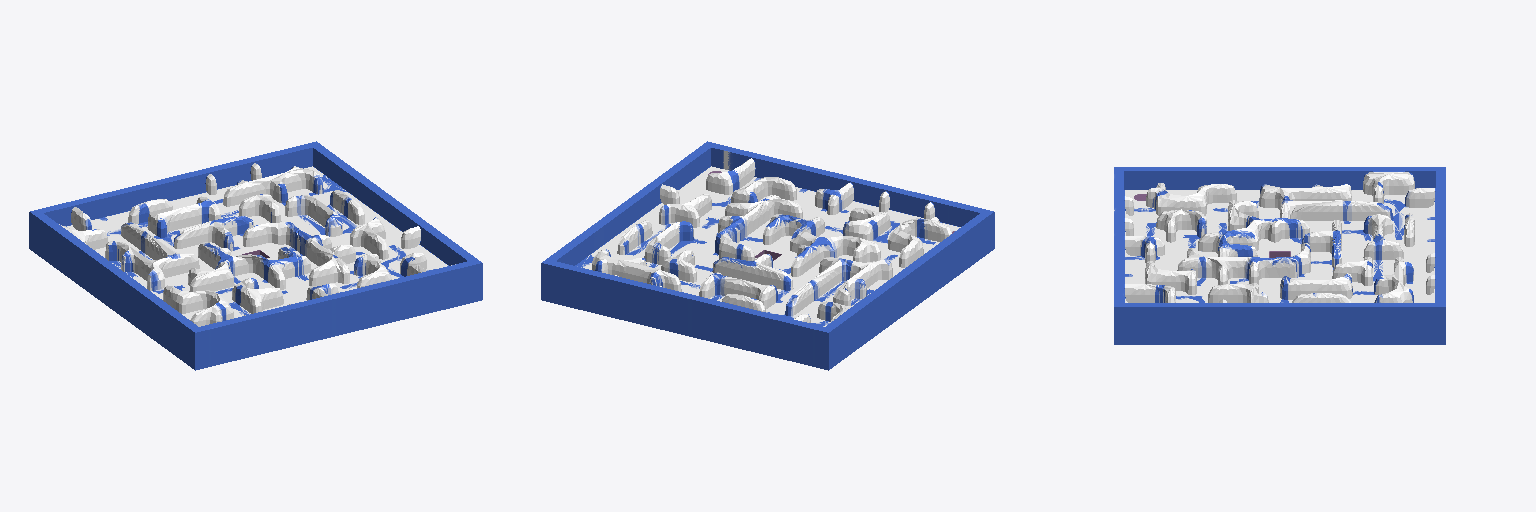
3 renders of one model, left to right at view 1: azimuth 30°, elevation 25°; view 2: azimuth 150°, elevation 25°; view 3: azimuth 270°, elevation 25°, orthographic.
Parts seen in each view (by area): view 1: Plane.002; view 2: Plane.002; view 3: Plane.002.
Part boxes in pixels (x1,y1,x2,y2): Plane.002: (29, 141, 482, 370); Plane.002: (541, 141, 994, 370); Plane.002: (1114, 167, 1445, 344).
Bounding box in the file's own units: 16 × 2 × 16.
1 materials, 1 textured.